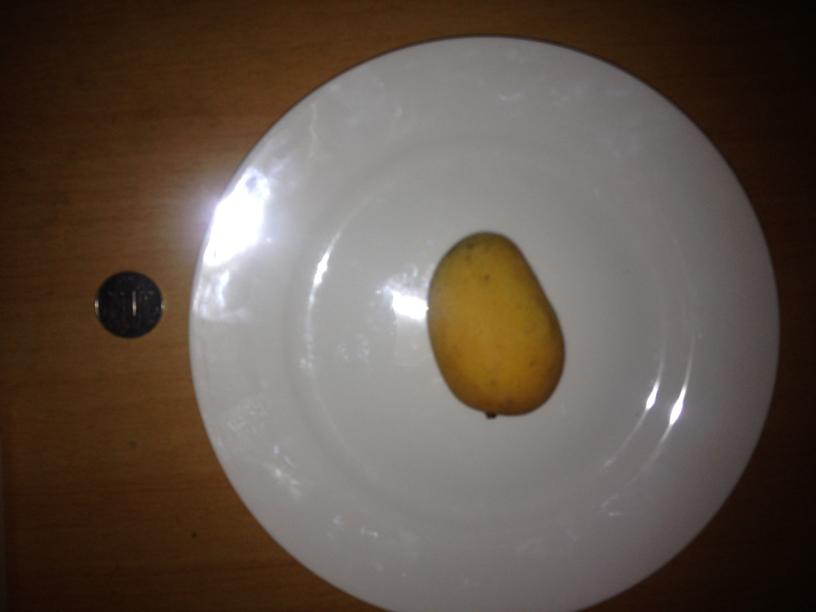coin: (93, 272, 164, 339)
mango: (427, 230, 563, 417)
